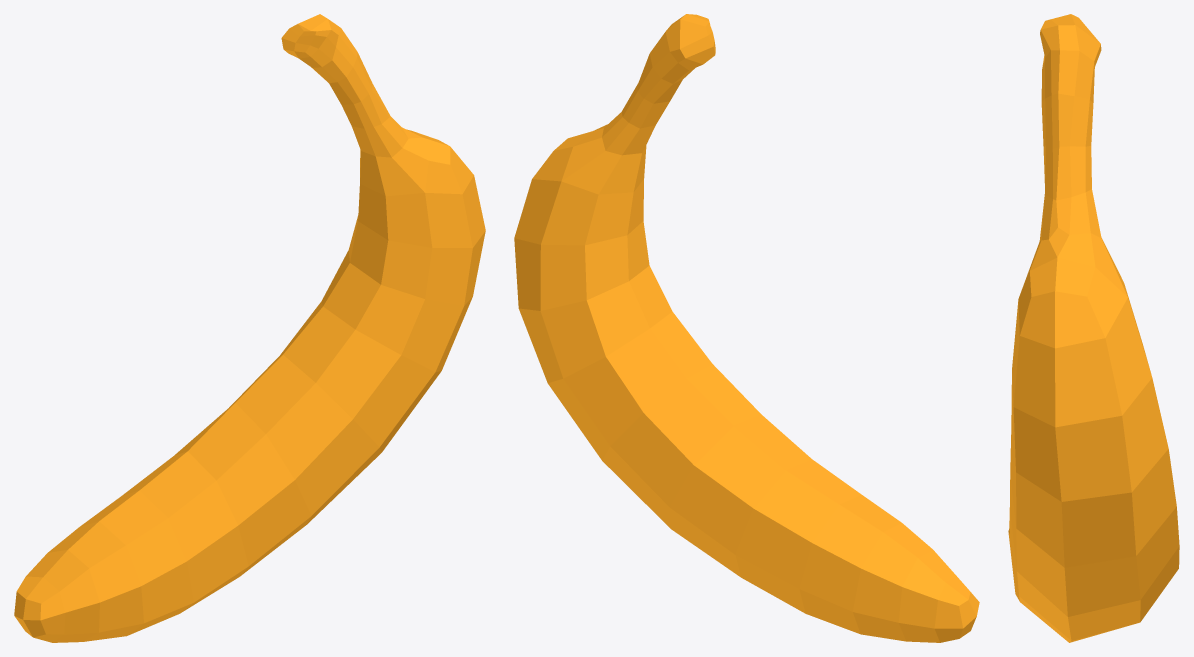
File: Banana.glb
The picture shows the model from 3 angles, left to right: view 1: azimuth 30°, elevation 25°; view 2: azimuth 150°, elevation 25°; view 3: azimuth 270°, elevation 25°; orthographic projection. The views are drawn at different scales.
Visible parts, largest first — view 1: Banana; view 2: Banana; view 3: Banana.
Boxes of the visible parts, left/top/right/bottom form: Banana: left=14, top=14, right=485, bottom=642; Banana: left=514, top=14, right=979, bottom=642; Banana: left=1008, top=14, right=1179, bottom=642.
Size of the model in its own units: 118 by 140 by 30.95.
